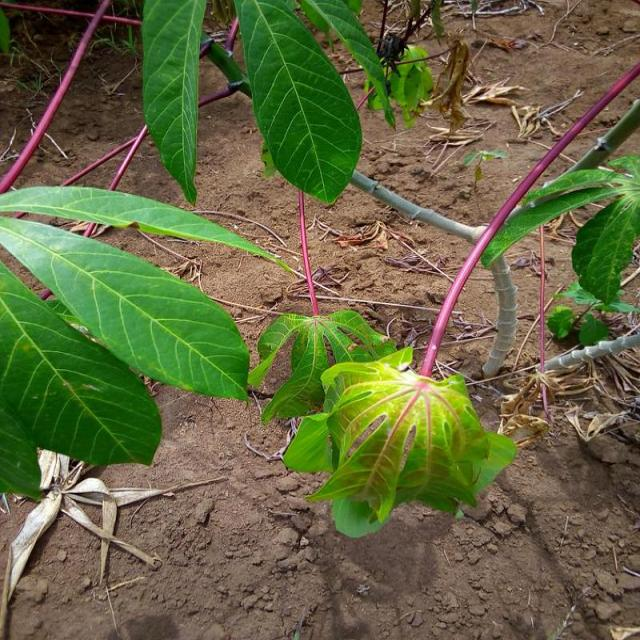cassava leaf: (2, 213, 251, 402), (282, 356, 518, 539), (1, 259, 163, 500), (1, 182, 302, 278), (234, 0, 364, 205), (248, 307, 411, 425), (479, 154, 639, 268), (142, 0, 208, 206)
